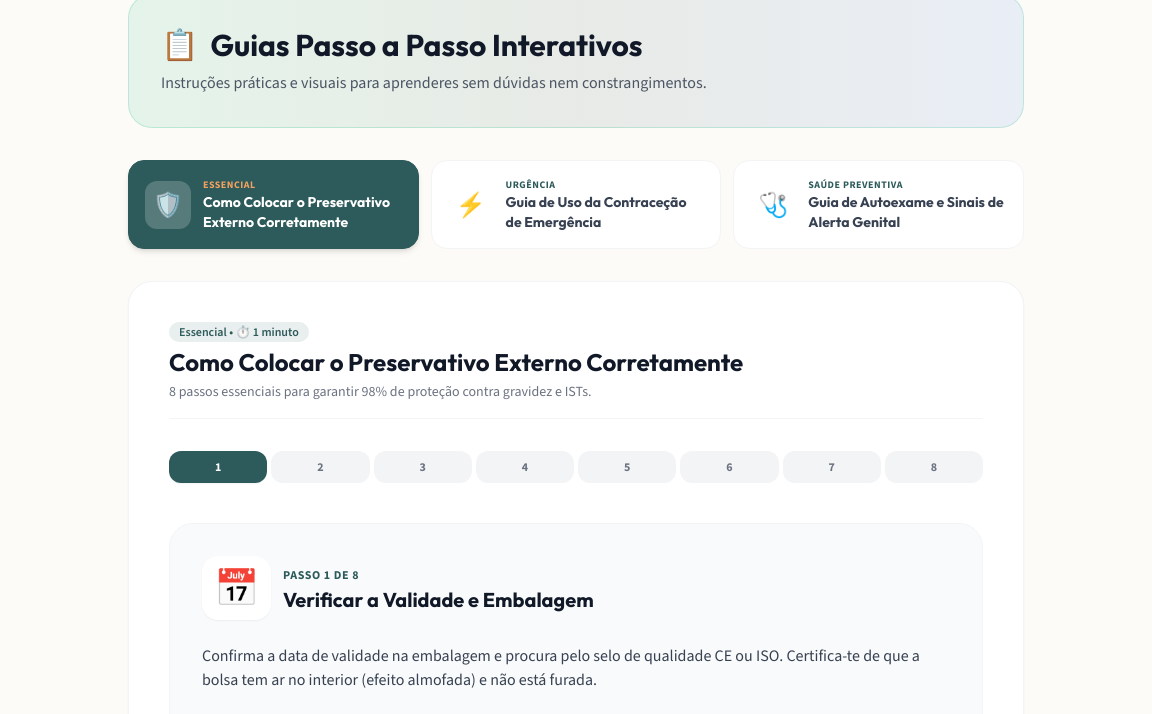
Test case: StepByStepGuides › navigates to step 2 when clicking step 2 dot
The image size is (1152, 714).
Click the button "2" at (320,467), box [271,451,370,483]
(page scrolled)
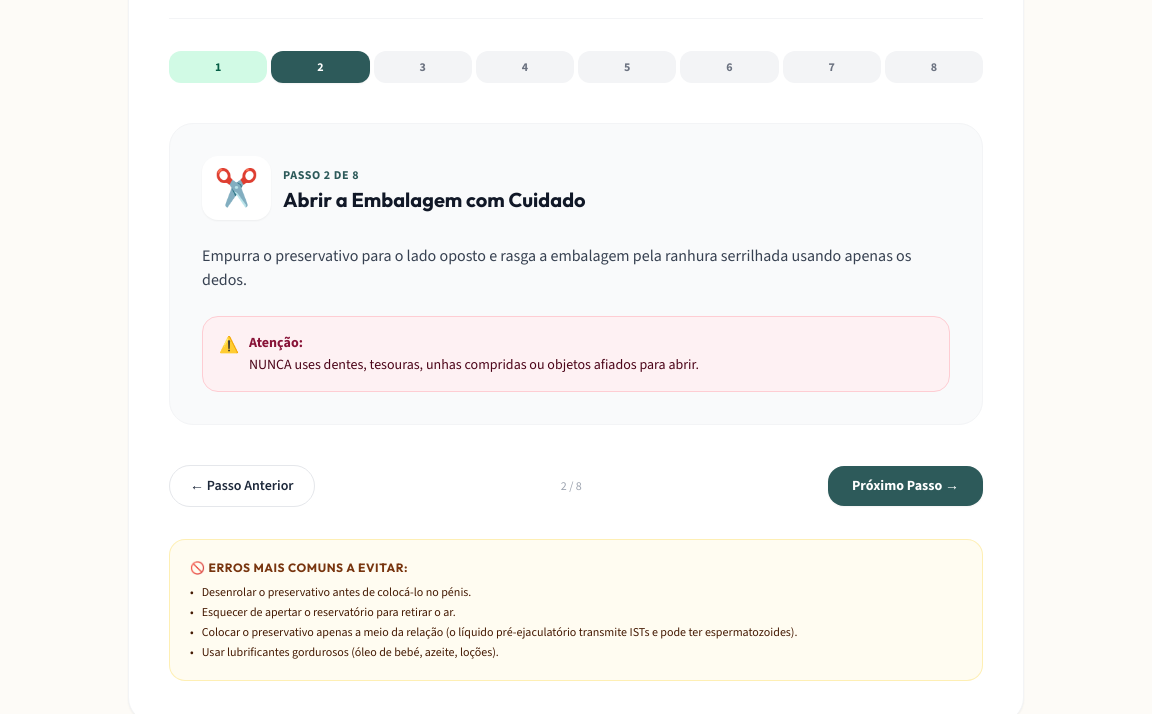
Result: the heading "Abrir a Embalagem com Cuidado" is shown at [283,186,586,214]
Result: the text "NUNCA uses dentes" is shown at [249,355,699,374]
